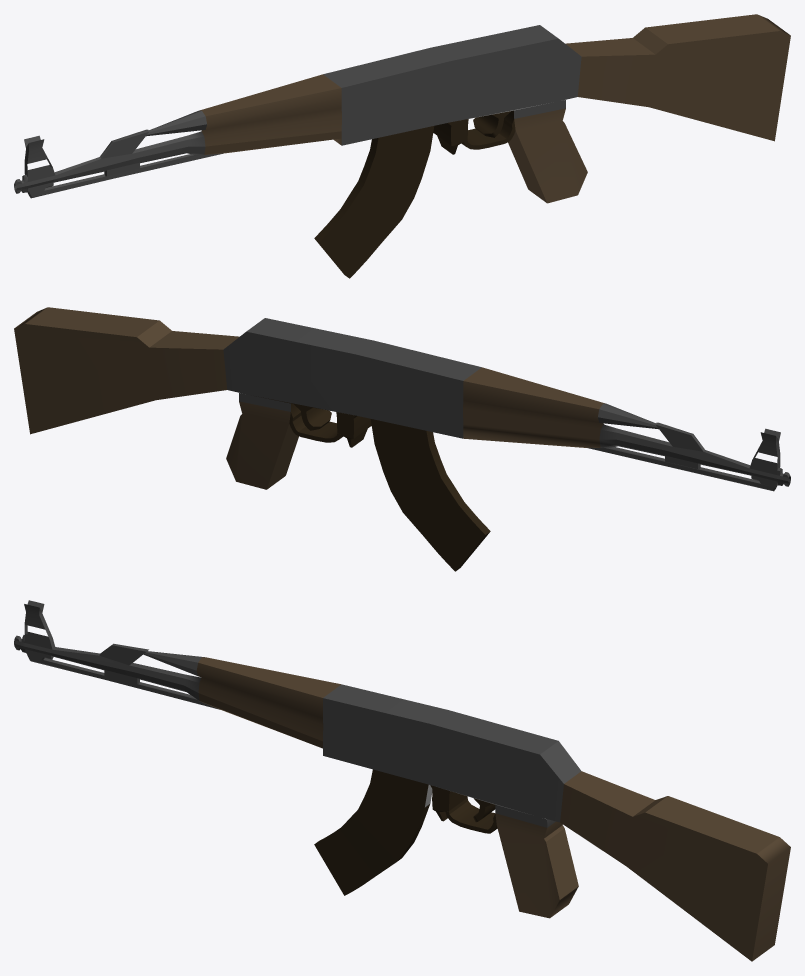
Rendered from Rifle.fbx.
3 renders of one model, top to bottom at view 1: azimuth 30°, elevation 25°; view 2: azimuth 150°, elevation 25°; view 3: azimuth 330°, elevation 25°, orthographic.
Visible parts, largest first — view 1: Rifle; view 2: Rifle; view 3: Rifle.
Part boxes in pixels (box(x1,y1,x2,y2)): Rifle: box(14, 14, 790, 278); Rifle: box(14, 307, 790, 571); Rifle: box(14, 600, 790, 961).
Bounding box in the file's own units: 49.77 × 13.31 × 2.88.
